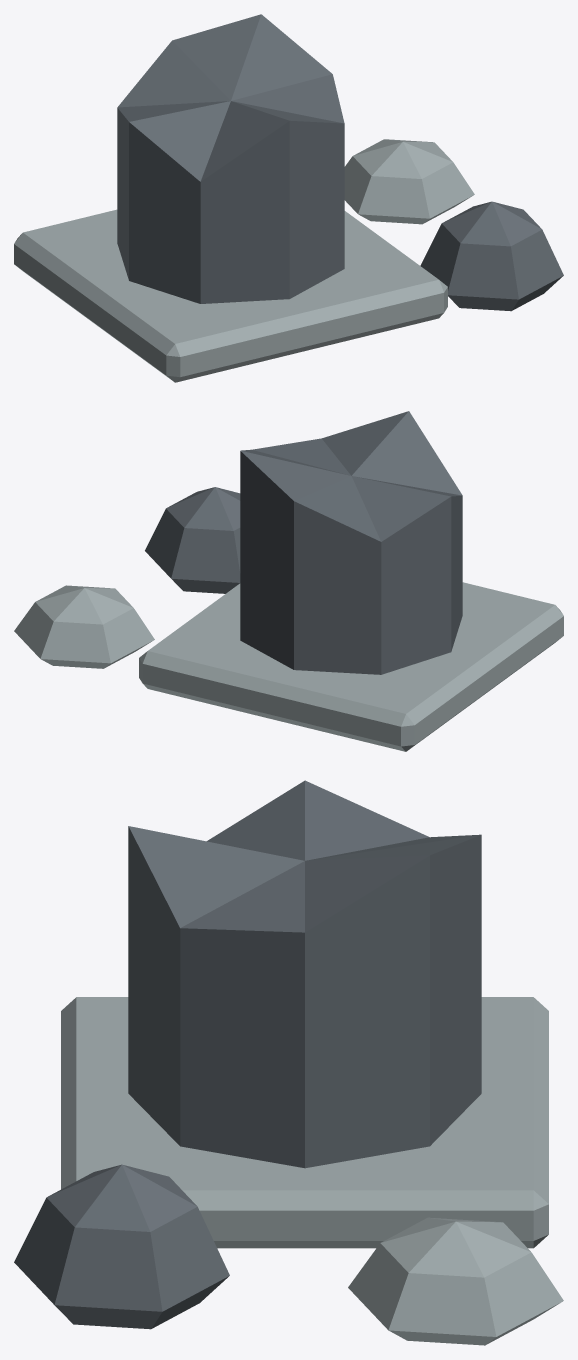
File: 10_Broken_Column.glb
The picture shows the model from 3 angles, top to bottom: view 1: azimuth 30°, elevation 25°; view 2: azimuth 150°, elevation 25°; view 3: azimuth 270°, elevation 25°; orthographic projection. The views are drawn at different scales.
Parts seen in each view (by area): view 1: 10_Broken_Column__Body; view 2: 10_Broken_Column__Body; view 3: 10_Broken_Column__Body.
Boxes of the visible parts, x1,y1,x2,y2 form: 10_Broken_Column__Body: [14, 14, 563, 382]; 10_Broken_Column__Body: [14, 411, 563, 751]; 10_Broken_Column__Body: [14, 780, 563, 1345].
Size of the model in its own units: 2.28 by 1.2 by 1.71.
1 material, 1 textured.
